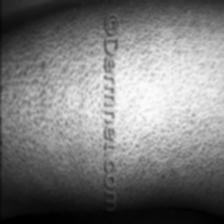Non-Cancerous Skin Condition: (132, 13, 224, 204), (0, 22, 93, 185)
